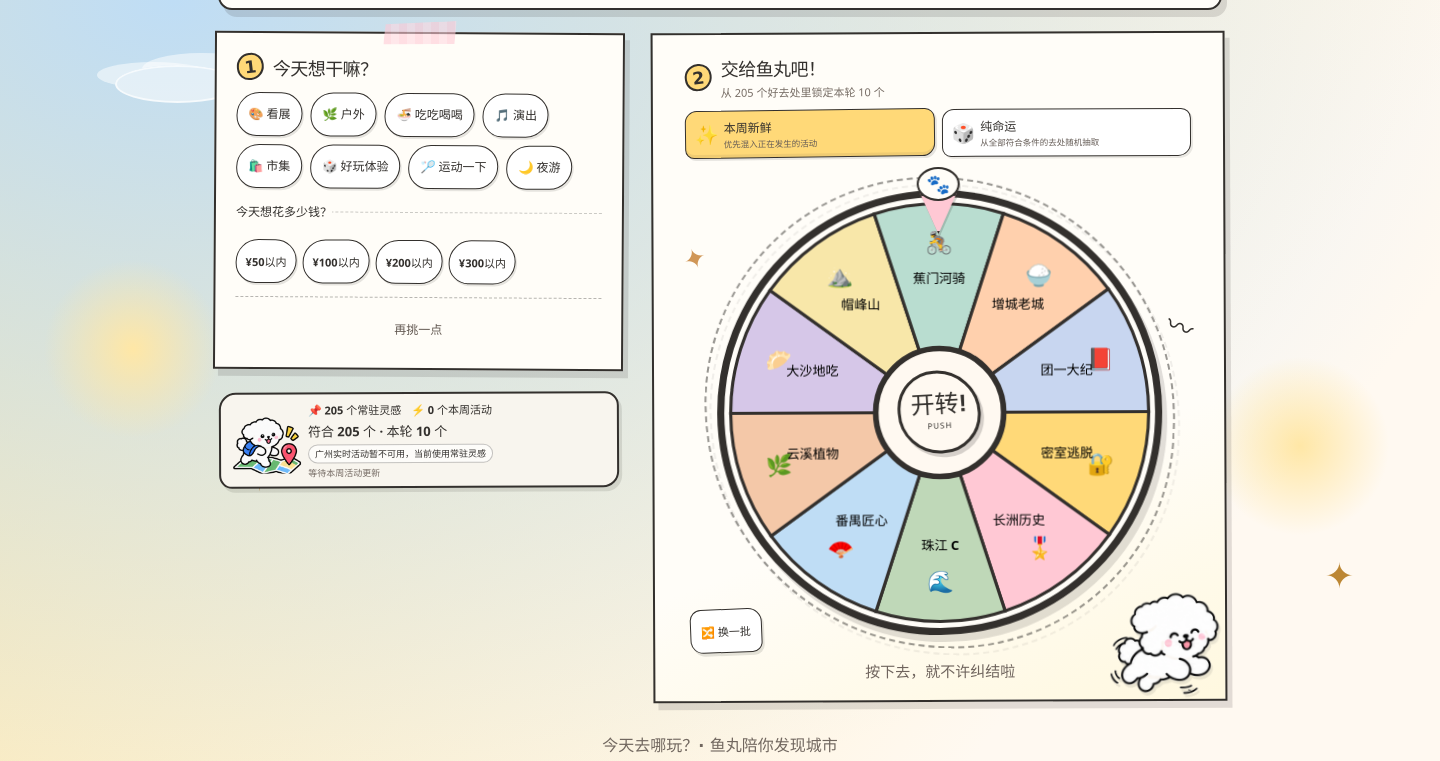
Test case: freezes every round-changing control for the full spin
(page scrolled)
Step 1. Click the button with aria-label "开转！" → [939, 412], box [895,368,983,456]
(page scrolled)
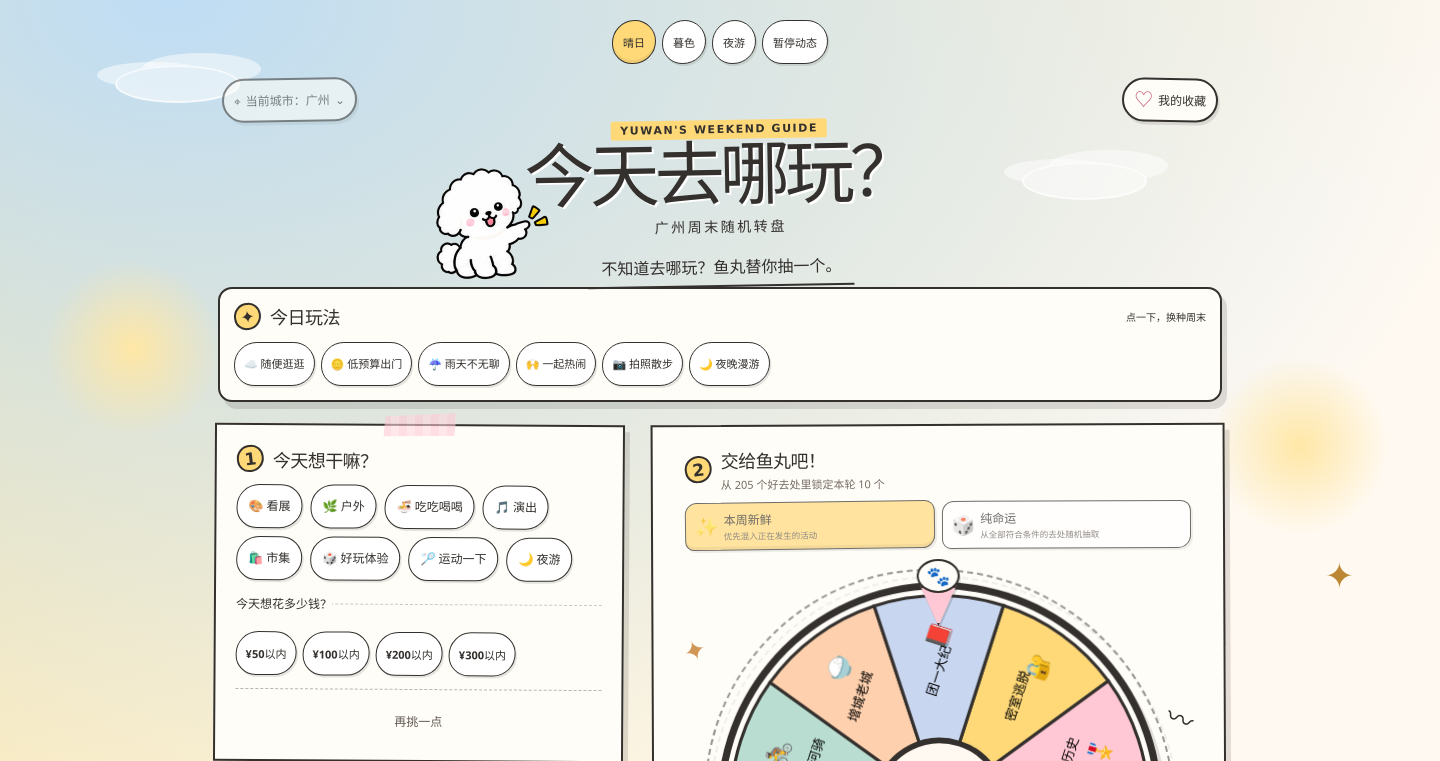
Expected: the button "✨ 本周新鲜 优先混入正在发生的活动" is disabled, [685,500,935,551]
Expected: the button "🎲 纯命运 从全部符合条件的去处随机抽取" is disabled, [941,500,1191,549]
Expected: the button "🏸 运动一下" is disabled, [408,537,499,581]
